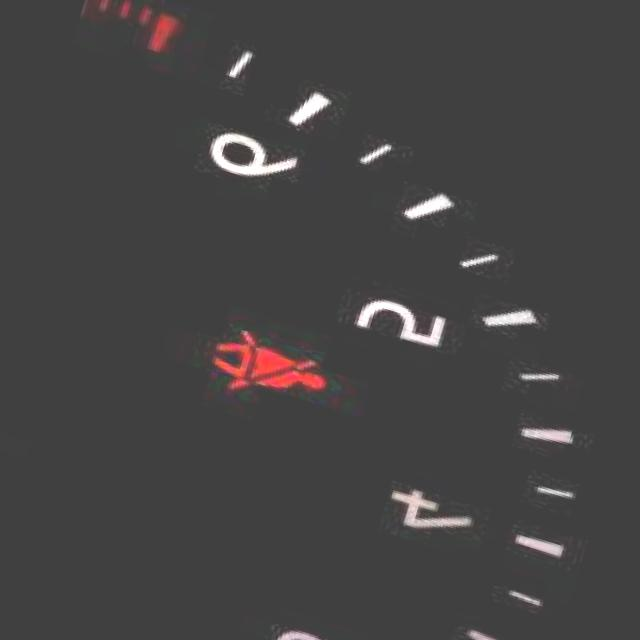kontrolka: (170, 294, 366, 448)
